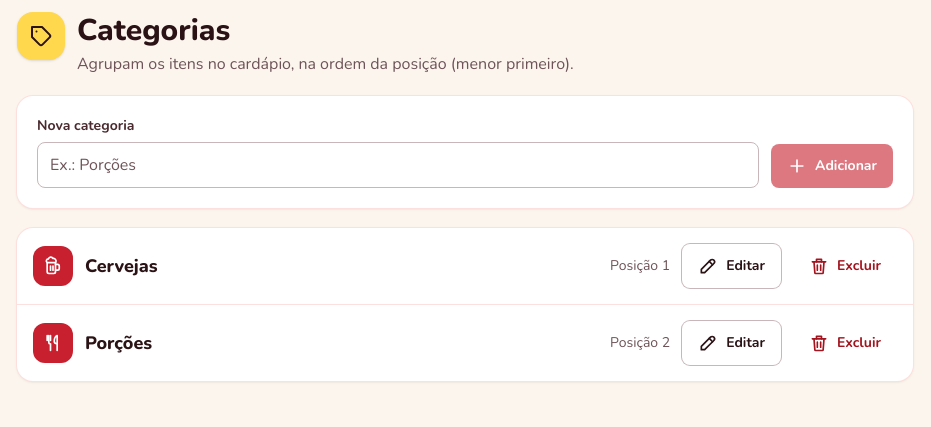
Scenario: CategoriesPage › cancelar a edição descarta as mudanças
Click the button with aria-label "Editar Cervejas". click: (732,266)
box: [682, 244, 781, 288]
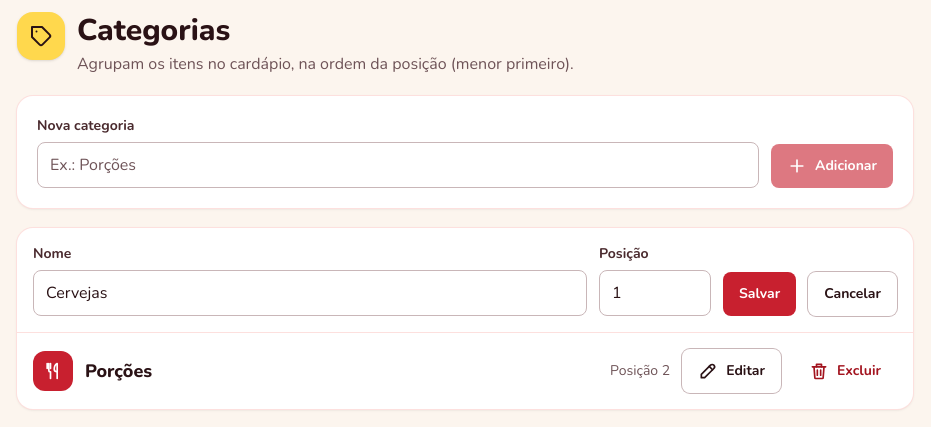
Type " XYZ" into the field labelled "Nome". click: (310,292)
box: [33, 270, 587, 316]
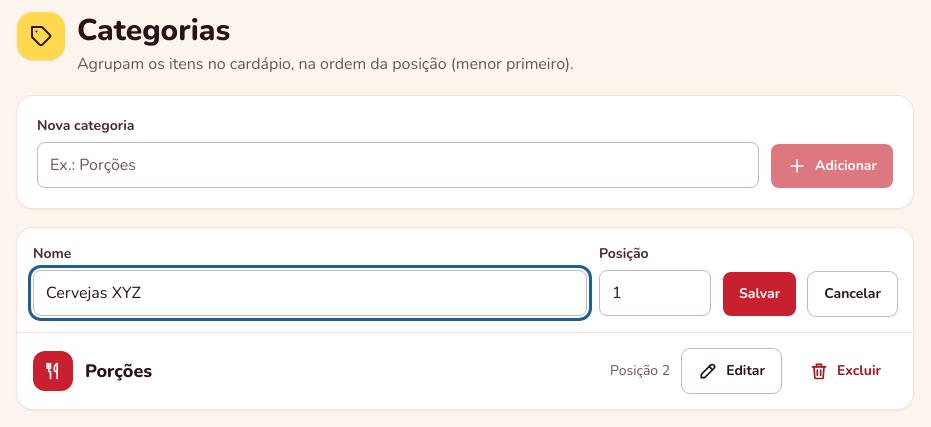
Click the button "Cancelar". click: (853,294)
box: [808, 272, 897, 316]
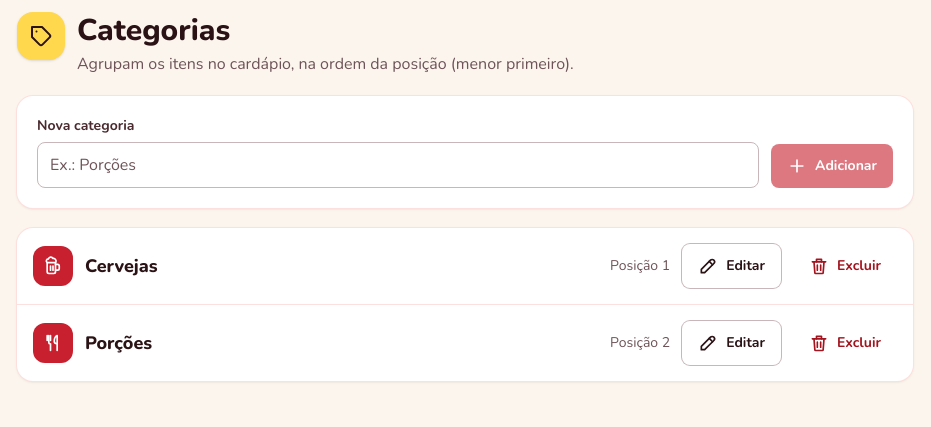
Expected: the field showing "XYZ" is not shown
Expected: the text "Cervejas" is shown, [85, 252, 158, 280]
